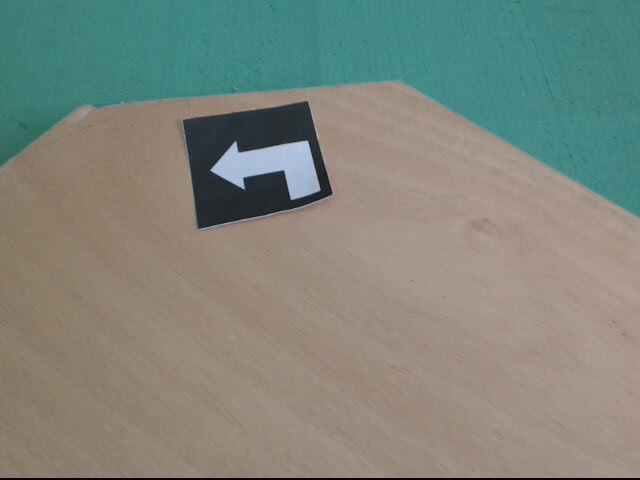left: (183, 99, 332, 231)
